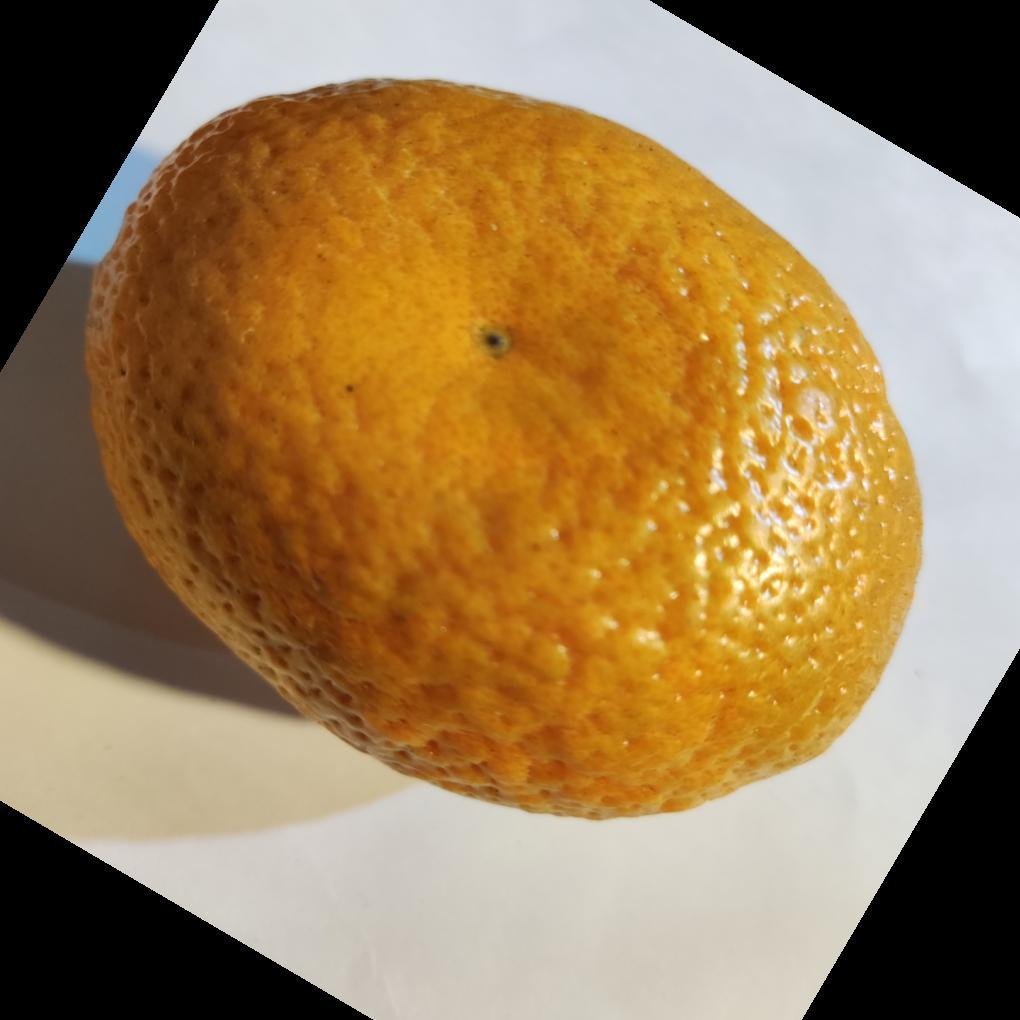FreshGuava: (81, 79, 926, 824)
